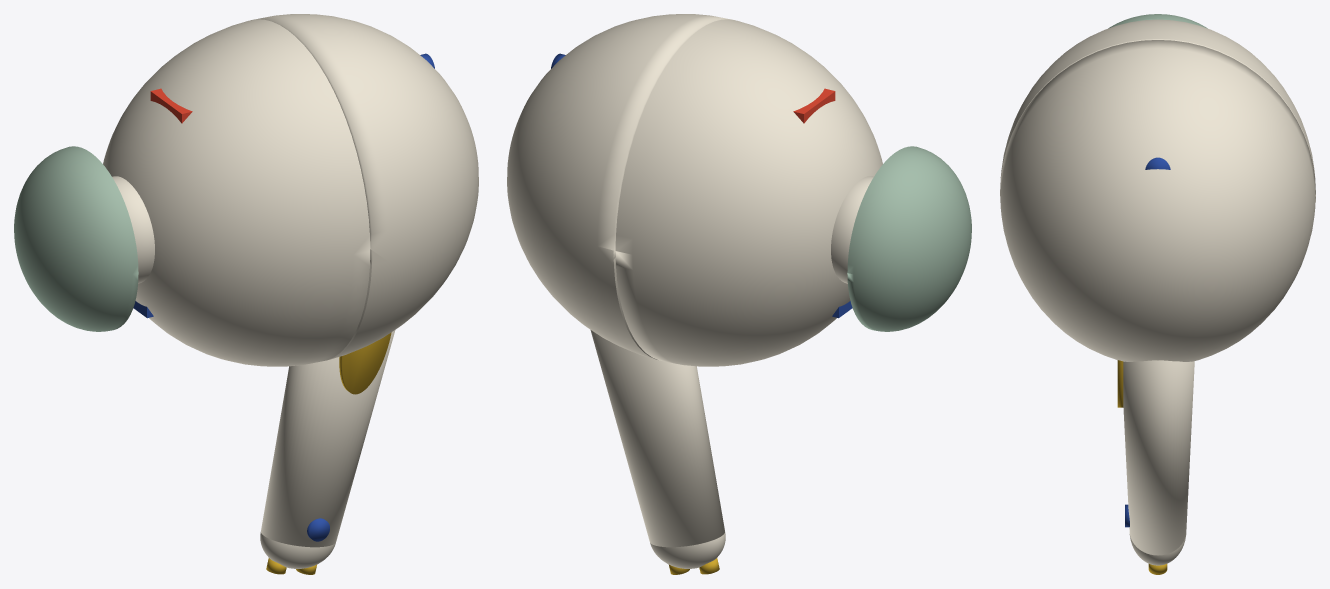
File: bud.glb
The picture shows the model from 3 angles, left to right: view 1: azimuth 30°, elevation 25°; view 2: azimuth 150°, elevation 25°; view 3: azimuth 270°, elevation 25°; orthographic projection. The views are drawn at different scales.
Visible parts, largest first — view 1: Front shell, Back shell, Ear tip, Stem, Nozzle, Touch pad, Stem cap; view 2: Front shell, Back shell, Ear tip, Stem, Nozzle, Stem cap; view 3: Back shell, Stem, Front shell, Stem cap, Ear tip.
Boxes of the visible parts, x1=… form: Front shell: x1=103, y1=19, x2=370, y2=366; Back shell: x1=251, y1=14, x2=478, y2=359; Ear tip: x1=14, y1=146, x2=138, y2=331; Stem: x1=261, y1=330, x2=395, y2=547; Nozzle: x1=112, y1=176, x2=154, y2=283; Touch pad: x1=339, y1=332, x2=391, y2=394; Stem cap: x1=260, y1=532, x2=335, y2=568; Front shell: x1=615, y1=19, x2=882, y2=366; Back shell: x1=507, y1=14, x2=734, y2=359; Ear tip: x1=847, y1=146, x2=971, y2=331; Stem: x1=590, y1=330, x2=724, y2=547; Nozzle: x1=831, y1=176, x2=873, y2=283; Stem cap: x1=650, y1=532, x2=725, y2=568; Back shell: x1=1000, y1=40, x2=1315, y2=361; Stem: x1=1123, y1=360, x2=1194, y2=555; Front shell: x1=1000, y1=19, x2=1315, y2=189; Stem cap: x1=1129, y1=534, x2=1186, y2=565; Ear tip: x1=1108, y1=14, x2=1207, y2=28.
Size of the model in its own units: 2.53 by 3.07 by 1.68.
